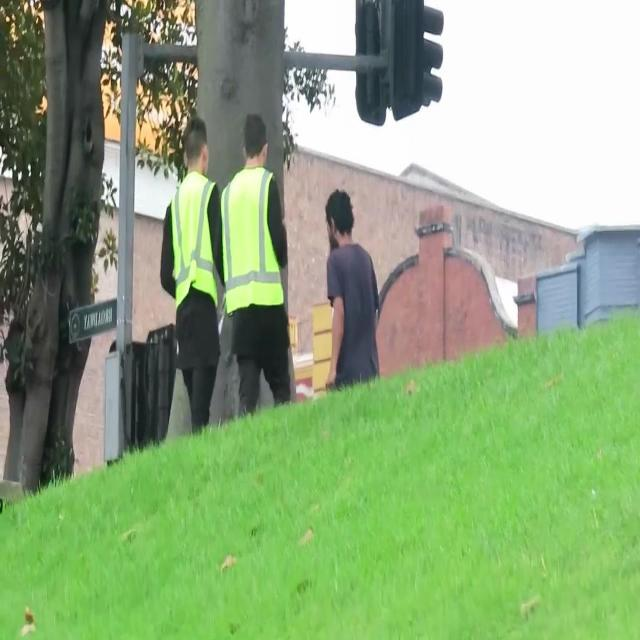Reflective-Jacket: (215, 165, 293, 328), (160, 167, 228, 321)
